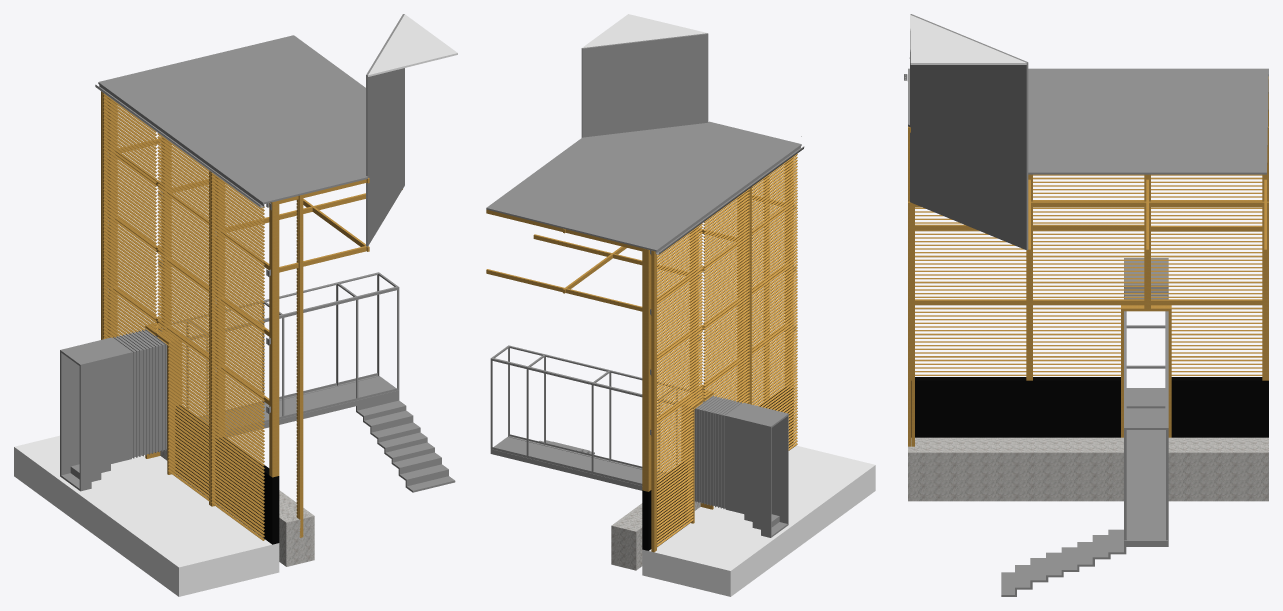
The model's file is roman-ruins.glb.
The picture shows the model from 3 angles, left to right: view 1: azimuth 30°, elevation 25°; view 2: azimuth 150°, elevation 25°; view 3: azimuth 270°, elevation 25°; orthographic projection. The views are drawn at different scales.
Visible parts, largest first — view 1: Node; view 2: Node; view 3: Node.
Boxes of the visible parts, x1,y1,x2,y2 form: Node: [14, 14, 457, 596]; Node: [486, 14, 875, 596]; Node: [904, 14, 1268, 596].
Size of the model in its own units: 905 by 1287 by 819.
Materials: 5 (5 with a texture image).
